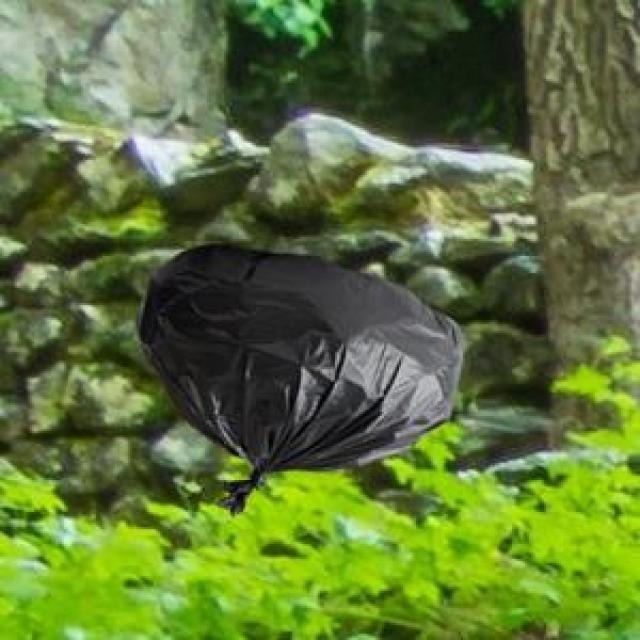Trashbag: (117, 245, 478, 518)
